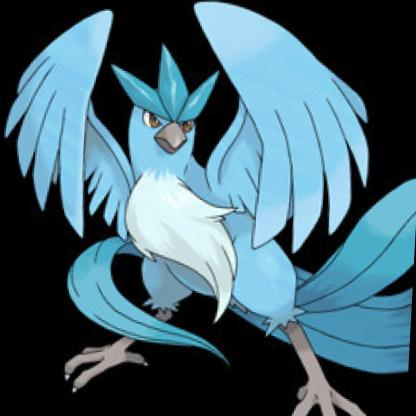Articuno: (54, 21, 416, 416)
